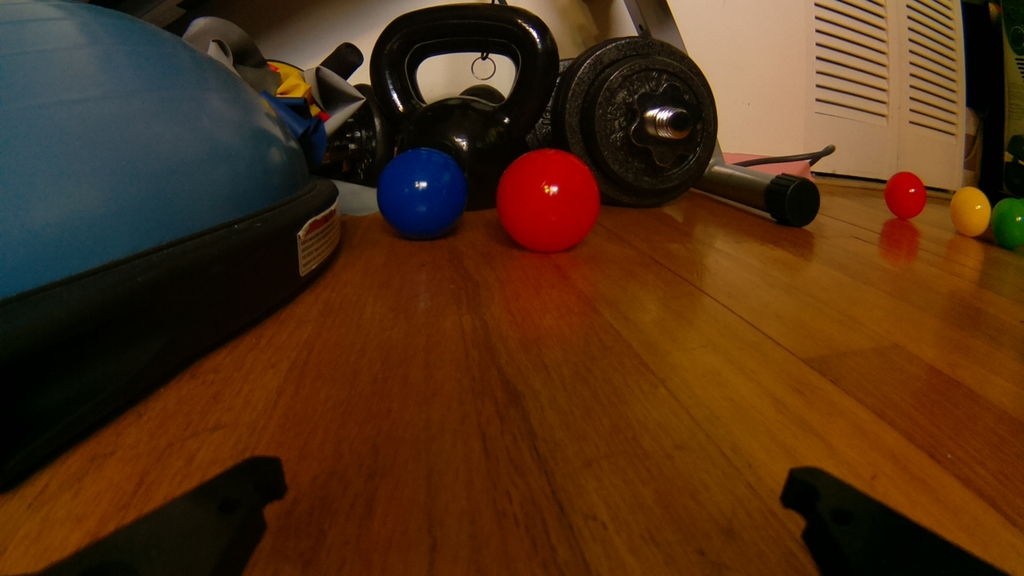ball: (492, 141, 603, 257)
